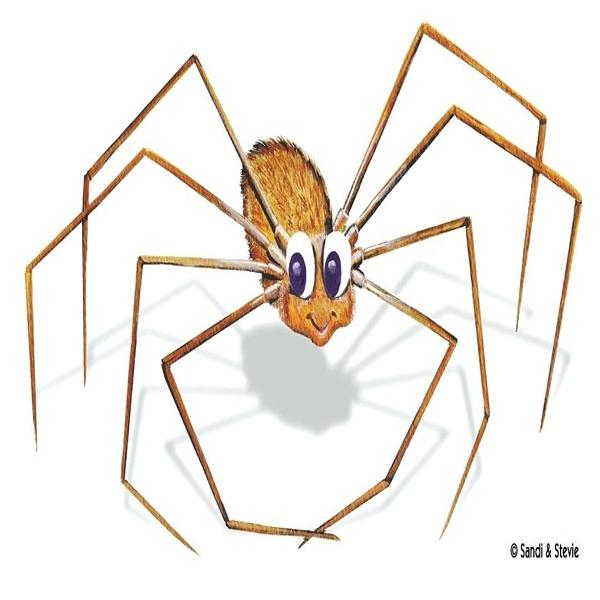Daddy Long Legs Spider: (22, 24, 582, 555)
